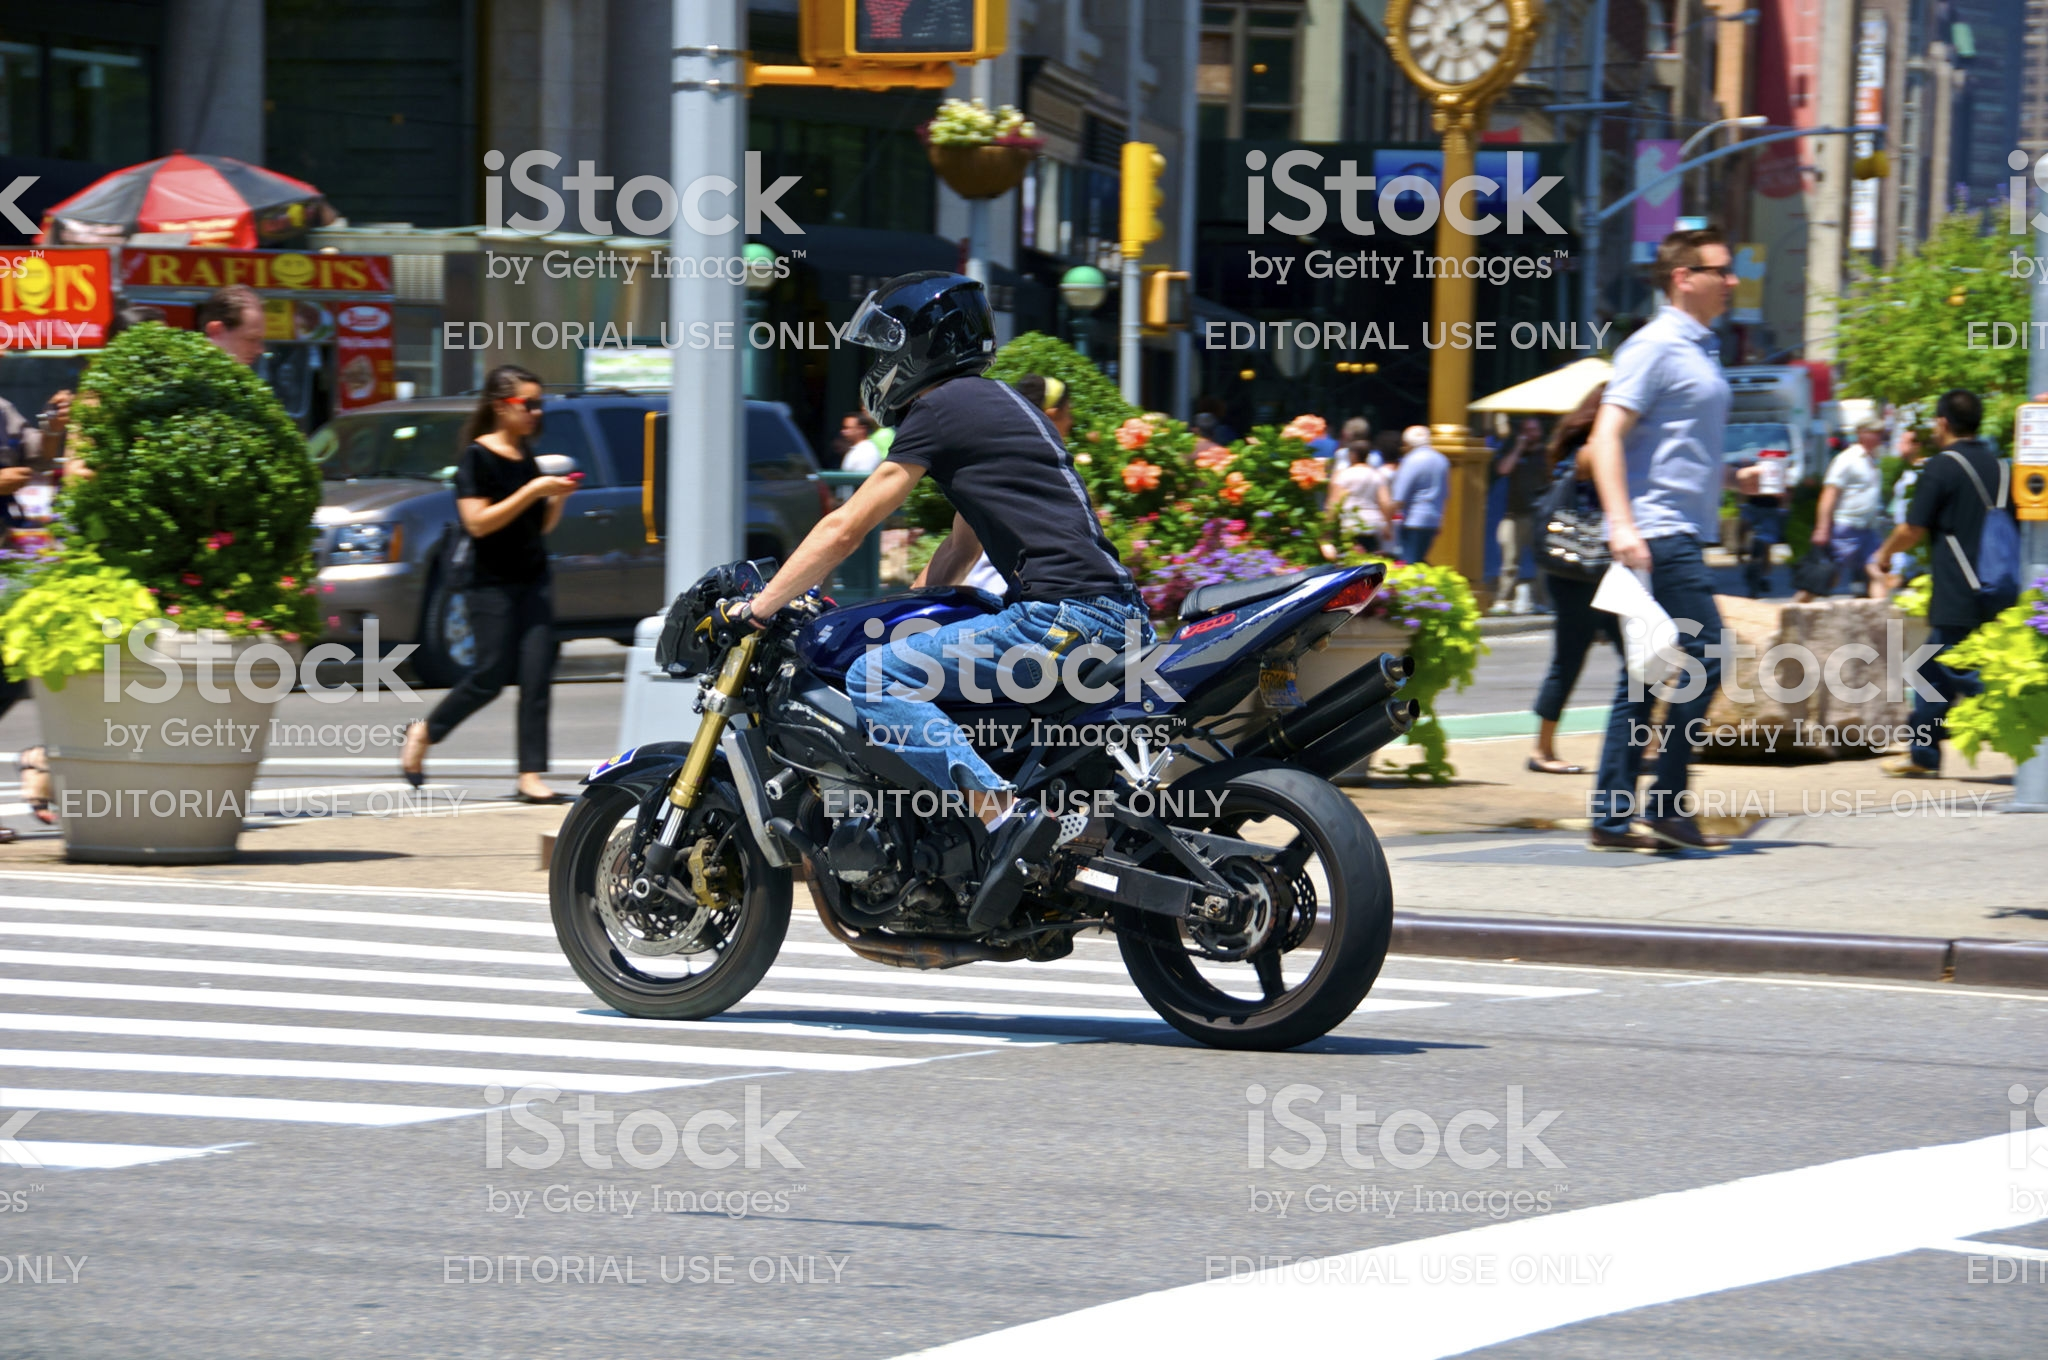helmet: (847, 285, 988, 392)
